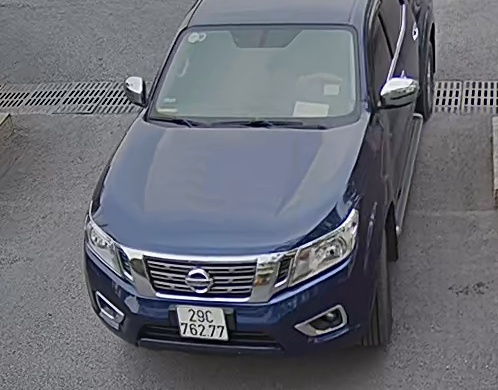vehicle plate: (174, 301, 232, 342)
